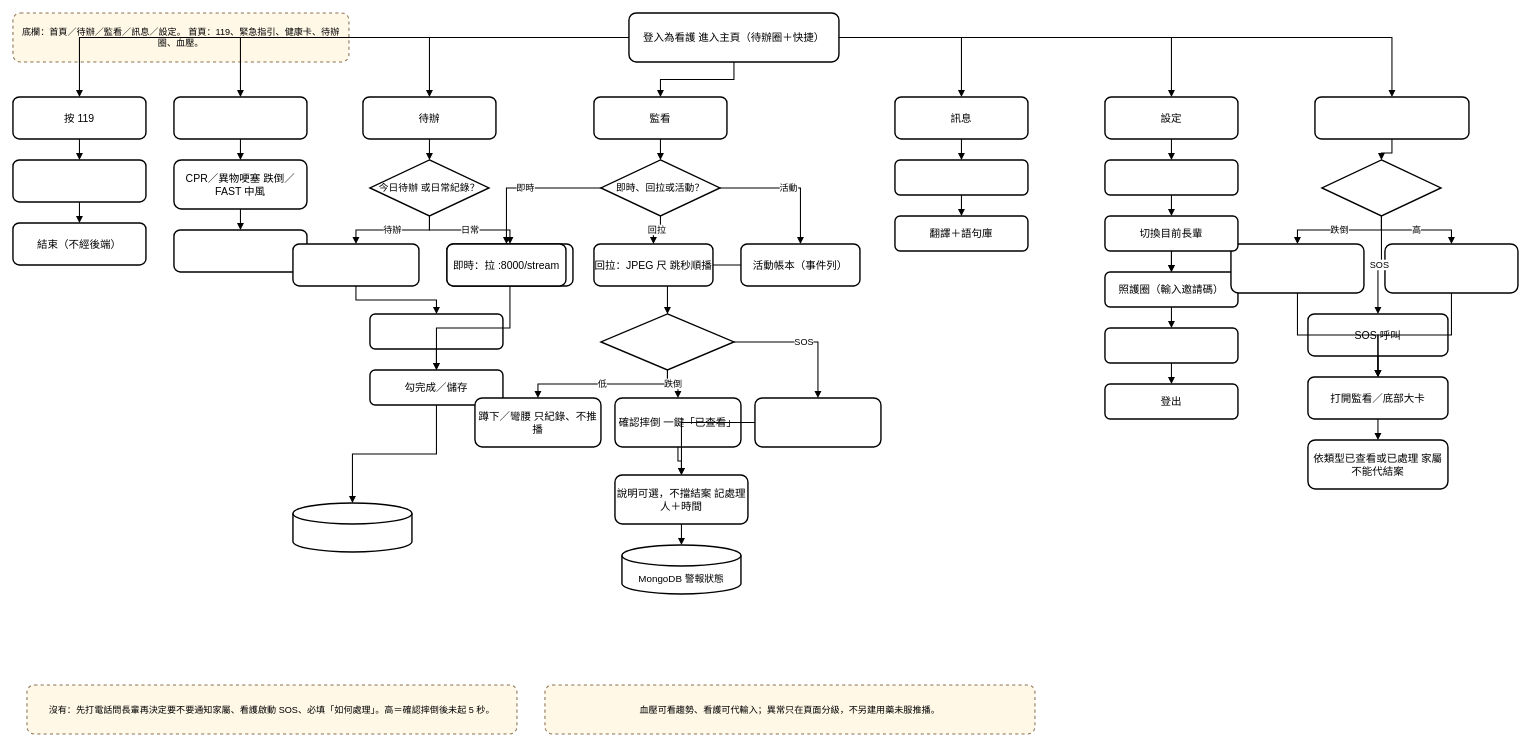
Image size: 1530x746. Some labels were removed from this diagram. The box of each missing label's shape, as (x1, y1, x2, y2) in pixels:
2×2 選答＋其他狀況問答: (173, 229, 307, 272)
MongoDB 待辦／日常: (292, 502, 412, 552)
SOS 一鍵「已處理」: (754, 397, 881, 447)
事件類型？: (600, 313, 734, 370)
介面六語: (1104, 327, 1238, 363)
個人資料／經歷專長: (1104, 159, 1238, 195)
可新增待辦: (369, 313, 503, 349)
收到 FCM 推播: (1314, 96, 1469, 139)
看今日清單並執行: (292, 243, 419, 286)
種類？: (1321, 159, 1441, 216)
系統電話撥 119: (12, 159, 146, 202)
緊急指引: (173, 96, 307, 139)
與長輩／家屬聊天: (894, 159, 1028, 195)
跌倒已記錄 （確認當下）: (1230, 243, 1364, 293)
高／極高 （未起滿 5 秒起跳）: (1384, 243, 1518, 293)
